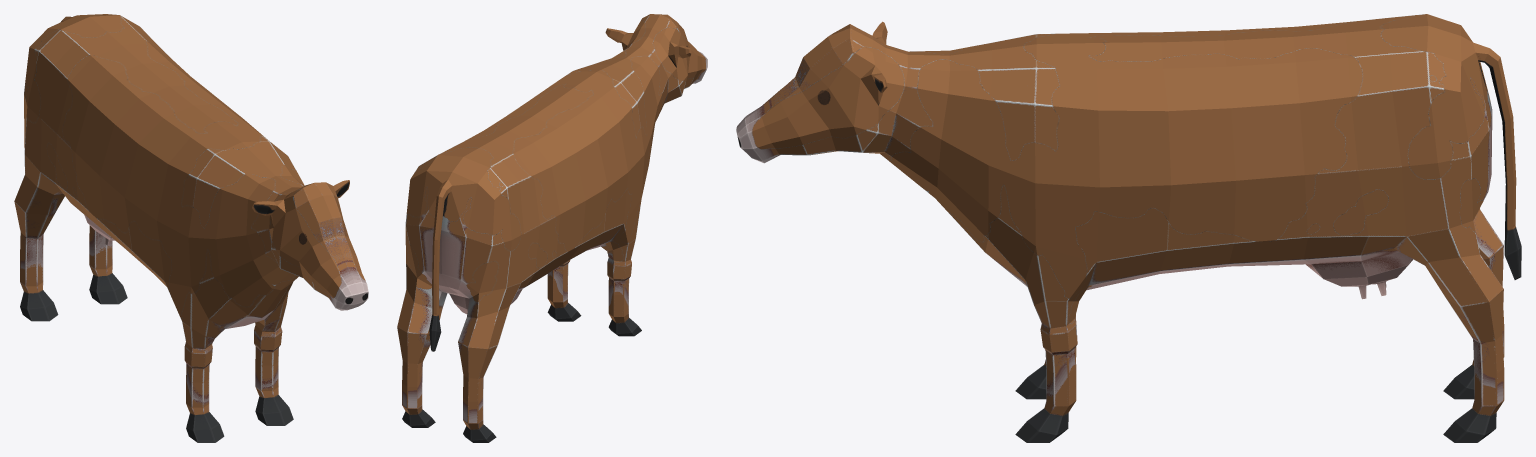
File: Cow_Limousine.obj
3 renders of one model, left to right at view 1: azimuth 30°, elevation 25°; view 2: azimuth 150°, elevation 25°; view 3: azimuth 270°, elevation 25°, orthographic. The views are drawn at different scales.
Parts seen in each view (by area): view 1: Cow_mesh; view 2: Cow_mesh; view 3: Cow_mesh.
Part boxes in pixels (<box>): Cow_mesh: <box>14,14,368,442</box>; Cow_mesh: <box>397,14,707,442</box>; Cow_mesh: <box>736,14,1521,442</box>.
Bounding box in the file's own units: 3.36 × 7.42 × 13.65.
1 material, 1 textured.
